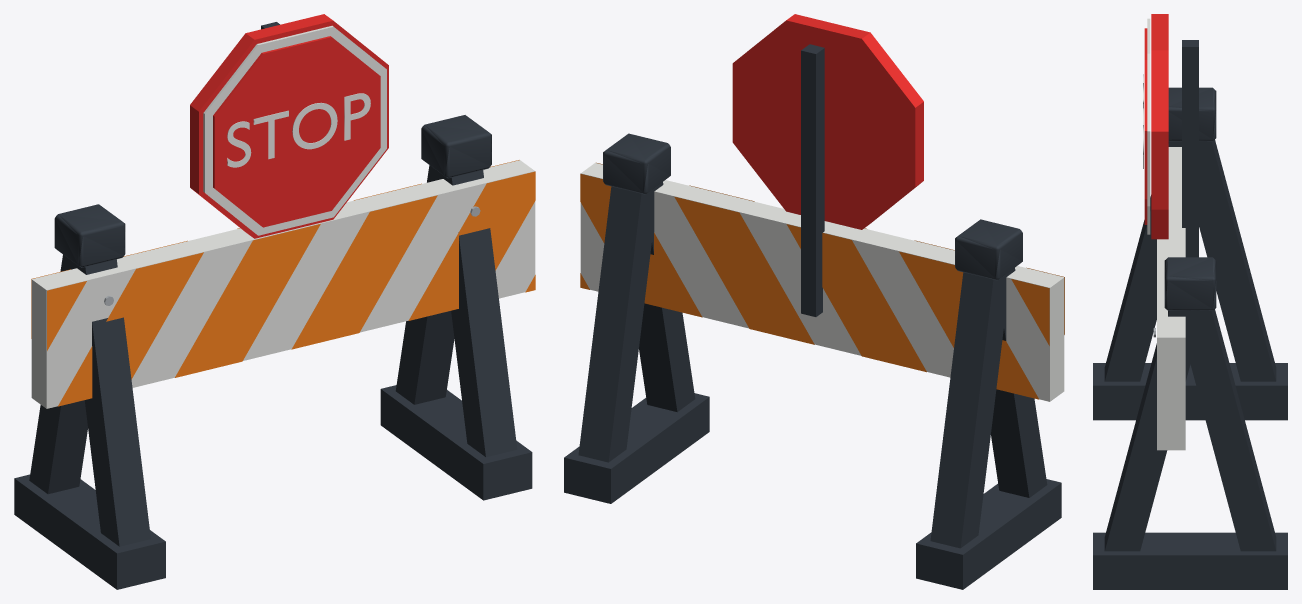
The model's file is Stop_Barrier.fbx.
The picture shows the model from 3 angles, left to right: view 1: azimuth 30°, elevation 25°; view 2: azimuth 150°, elevation 25°; view 3: azimuth 270°, elevation 25°; orthographic projection. The views are drawn at different scales.
Visible parts, largest first — view 1: Asset_Stop_Barrier; view 2: Asset_Stop_Barrier; view 3: Asset_Stop_Barrier.
Part boxes in pixels (box(x1,y1,x2,y2)): Asset_Stop_Barrier: box(14, 14, 535, 589); Asset_Stop_Barrier: box(564, 14, 1064, 589); Asset_Stop_Barrier: box(1093, 14, 1287, 589).
Bounding box in the file's own units: 3.22 × 3.06 × 1.17.
